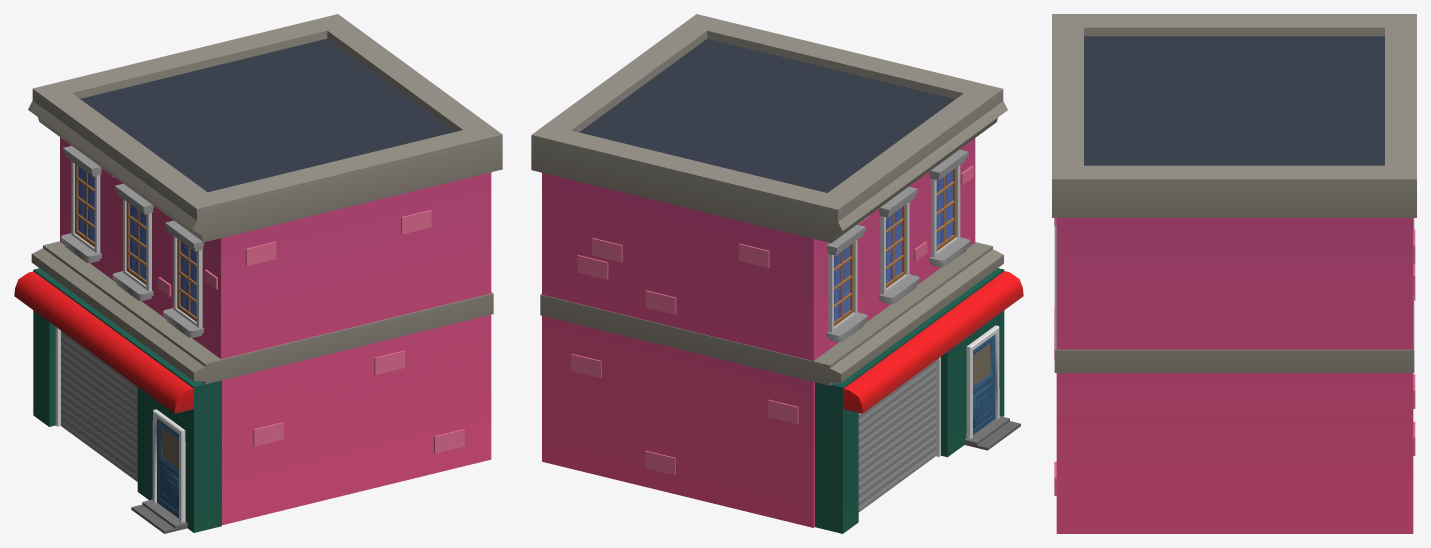
The model's file is Building_19_3_G.fbx.
3 renders of one model, left to right at view 1: azimuth 30°, elevation 25°; view 2: azimuth 150°, elevation 25°; view 3: azimuth 270°, elevation 25°, orthographic. The views are drawn at different scales.
Parts seen in each view (by area): view 1: Building_19_3_G; view 2: Building_19_3_G; view 3: Building_19_3_G.
Part boxes in pixels (bbox=[...]): Building_19_3_G: bbox=[14, 14, 502, 533]; Building_19_3_G: bbox=[531, 14, 1023, 533]; Building_19_3_G: bbox=[1052, 14, 1416, 533].
Bounding box in the file's own units: 774 × 726 × 667.
